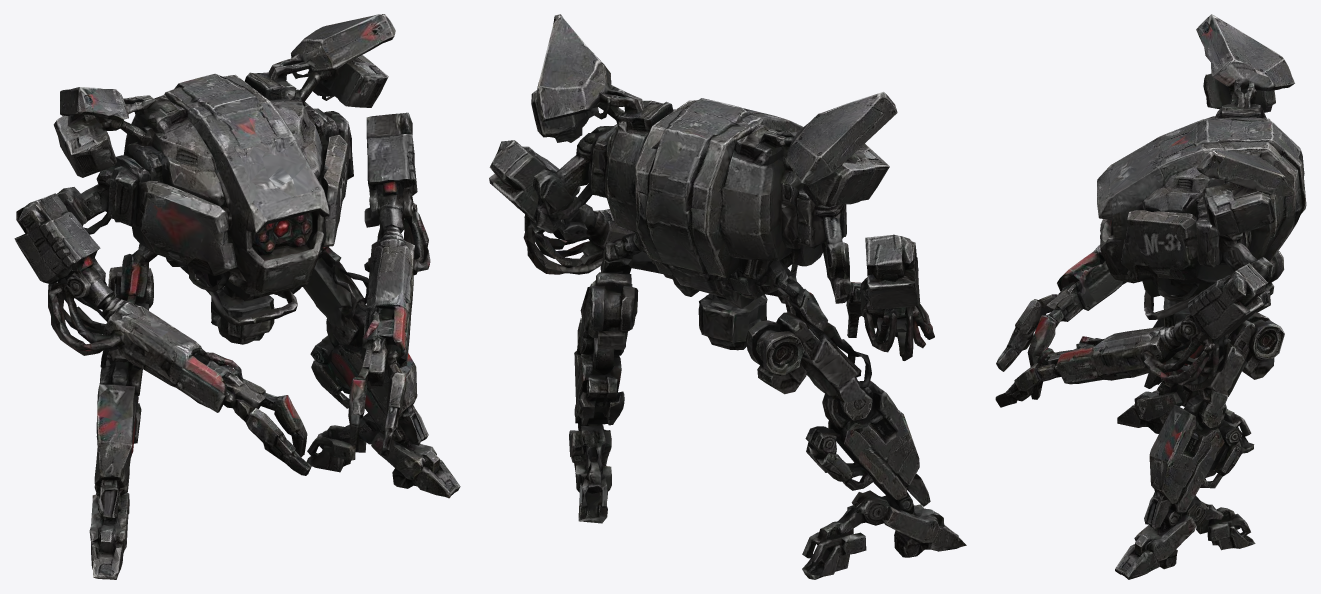
Rendered from enemy_lo.glb.
3 renders of one model, left to right at view 1: azimuth 30°, elevation 25°; view 2: azimuth 150°, elevation 25°; view 3: azimuth 270°, elevation 25°, orthographic. The views are drawn at different scales.
Visible parts, largest first — view 1: geometry_0; view 2: geometry_0; view 3: geometry_0.
Boxes of the visible parts, x1,y1,x2,y2 form: geometry_0: (14, 14, 460, 579); geometry_0: (489, 14, 966, 579); geometry_0: (995, 14, 1306, 579).
Bounding box in the file's own units: 0.9041 × 0.9825 × 0.6642.
1 material, 1 textured.
